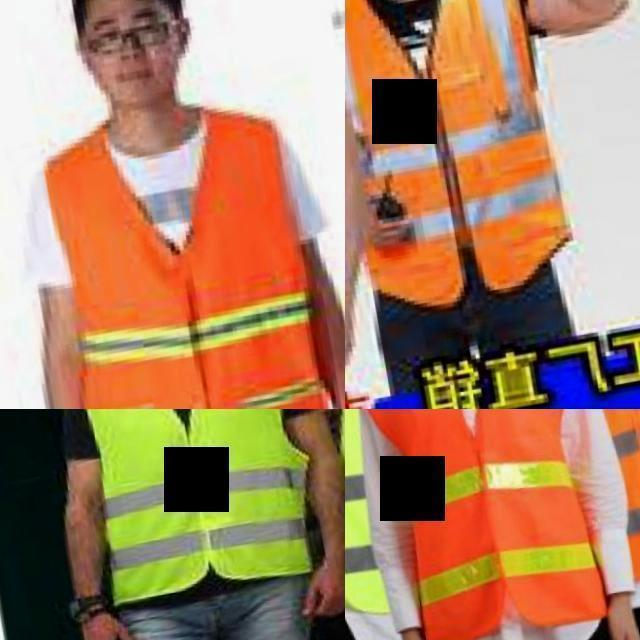vest: (34, 100, 330, 409), (345, 0, 559, 300), (345, 409, 620, 640), (66, 409, 311, 617), (552, 409, 640, 603)
